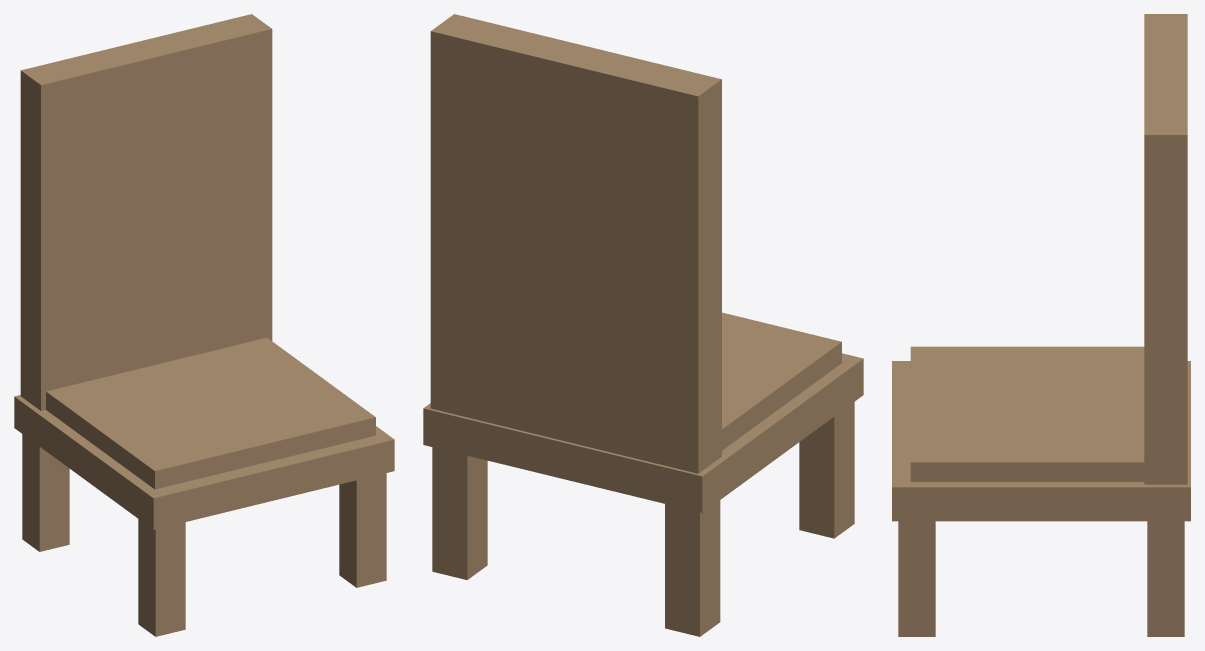
The model's file is chair.gltf.
The picture shows the model from 3 angles, left to right: view 1: azimuth 30°, elevation 25°; view 2: azimuth 150°, elevation 25°; view 3: azimuth 270°, elevation 25°; orthographic projection. The views are drawn at different scales.
Bounding box in the file's own units: 0.48 × 0.89 × 0.48.
